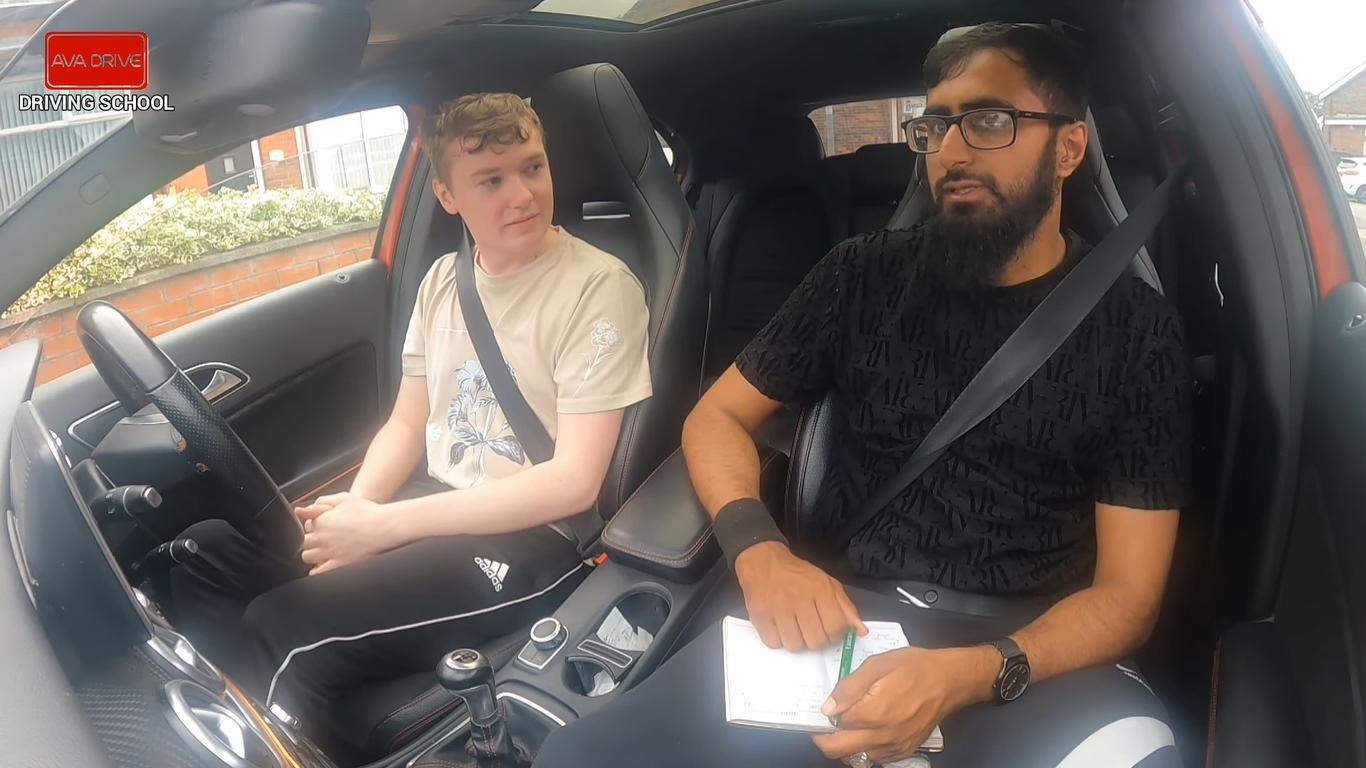seatbelt: (865, 249, 1137, 508), (435, 254, 590, 539)
